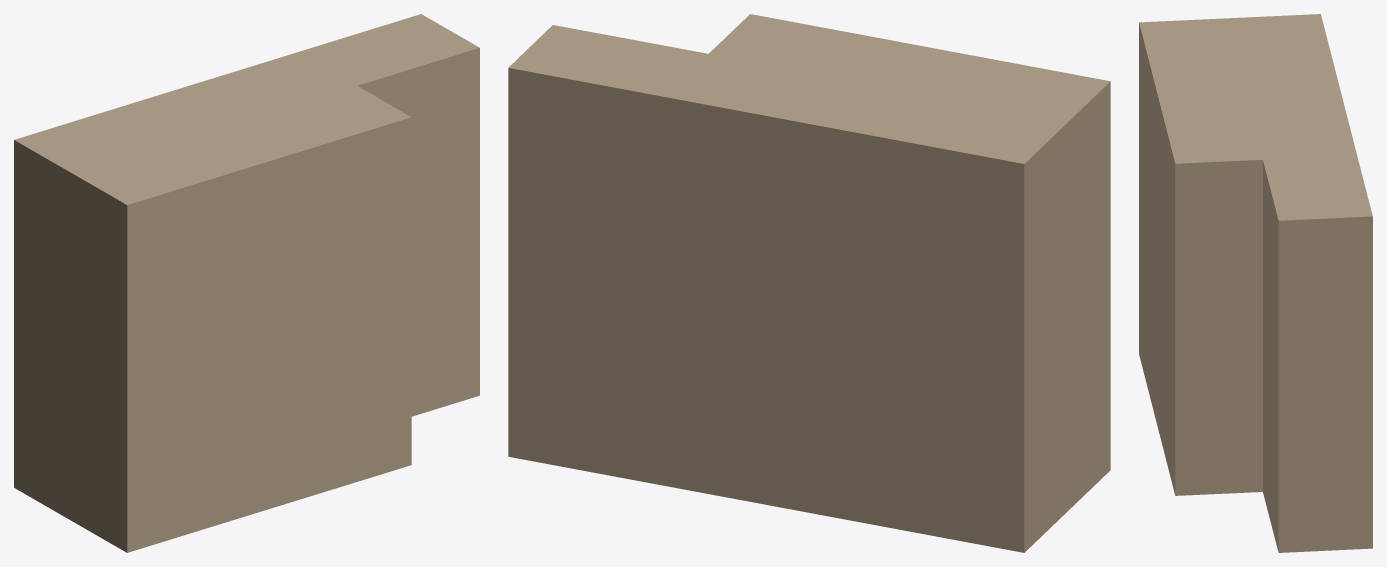
File: bld_101572460.dae
The picture shows the model from 3 angles, left to right: view 1: azimuth 30°, elevation 25°; view 2: azimuth 150°, elevation 25°; view 3: azimuth 270°, elevation 25°; orthographic projection. The views are drawn at different scales.
Parts seen in each view (by area): view 1: bld_101572460; view 2: bld_101572460; view 3: bld_101572460.
Boxes of the visible parts, x1,y1,x2,y2 form: bld_101572460: (14, 14, 479, 552); bld_101572460: (508, 14, 1110, 552); bld_101572460: (1139, 14, 1372, 552).
Size of the model in its own units: 10.68 by 5.1 by 8.
